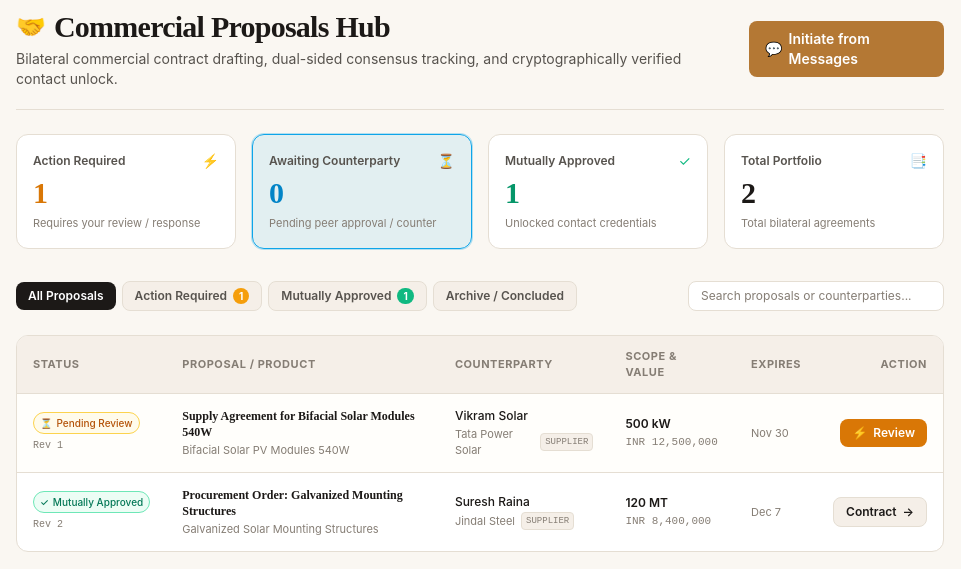
it: Commercial Proposals Hub & Contract Sheet (Subphase 6) › 4. Proposals Hub Route (/proposals) › renders metric cards, proposals list and handles search
Expected: the text "Action Required" next to "Awaiting Counterparty" is shown, [33,153,125,168]
Expected: the text "Mutually Approved" next to "Awaiting Counterparty" is shown, [505,153,615,168]
Search input filtering
Type "Mounting Structures" into the field with placeholder "Search proposals or counterparties...". click: {"x": 816, "y": 296}
box: [688,280,944,310]
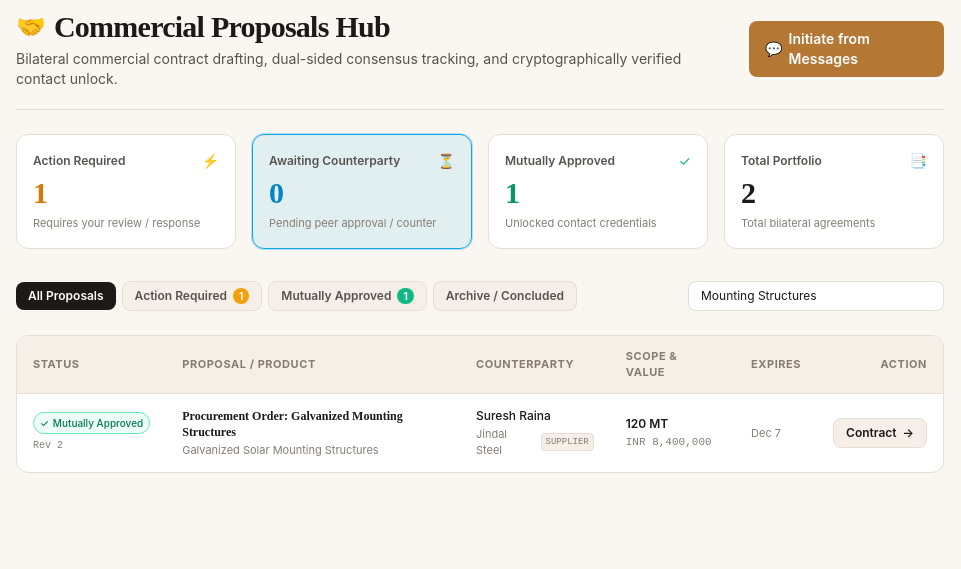
Result: the text "Supply Agreement for Bifacial Solar Modules 540W" is gone
